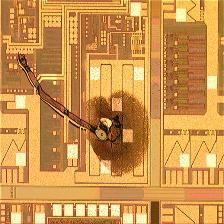PARTICLE: (16, 52, 152, 178)
